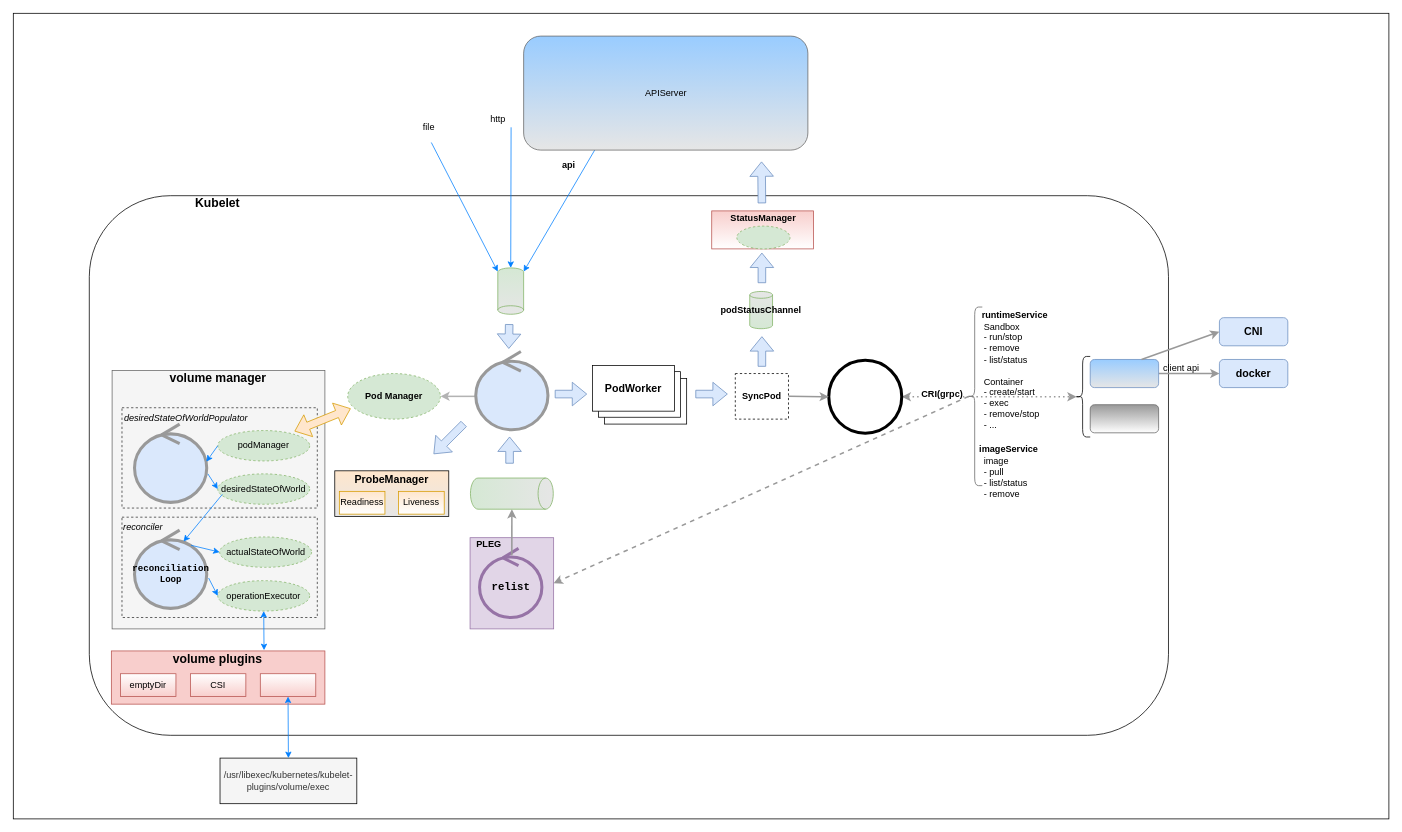
This 1402x832 diagram has some shape labels left out. Each missing label, with the centre of its shape:
"dockershim" belongs at point 1124,373.
"flexvolume" belongs at point 288,685.
"GenericRuntime SyncPod" belongs at point 865,396.
"plegCh" belongs at point 511,493.
"podStatuses" belongs at point 763,237.
"populatorLoop" belongs at point 170,463.
"remote (fake)" belongs at point 1124,418.
"syncLoop" belongs at point 511,390.
"updates(configCh)" belongs at point 510,290.
